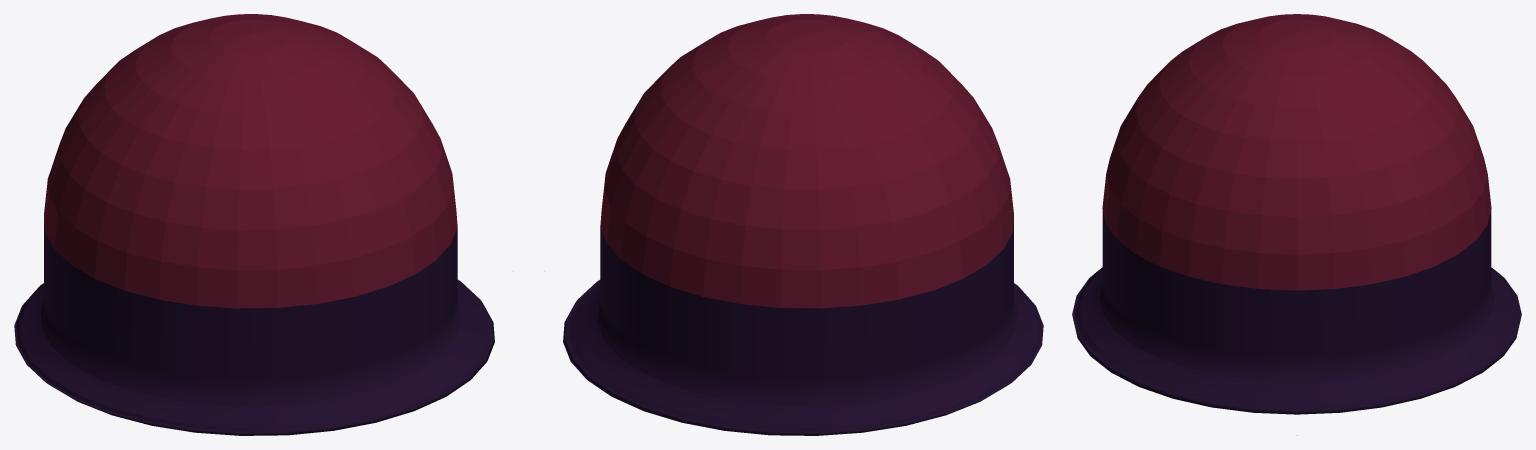
The model's file is scifi.glb.
3 views of the same model, side by side, from view 1: azimuth 30°, elevation 25°; view 2: azimuth 150°, elevation 25°; view 3: azimuth 270°, elevation 25° (orthographic). The views are drawn at different scales.
Parts seen in each view (by area): view 1: Sphere, Circle; view 2: Sphere, Circle; view 3: Sphere, Circle.
Part boxes in pixels (x1=…): Sphere: x1=44, y1=14, x2=457, y2=308; Circle: x1=14, y1=219, x2=494, y2=435; Sphere: x1=600, y1=14, x2=1013, y2=308; Circle: x1=563, y1=219, x2=1043, y2=435; Sphere: x1=1102, y1=14, x2=1491, y2=290; Circle: x1=1072, y1=210, x2=1521, y2=414.
Bounding box in the file's own units: 522 × 324 × 463.
